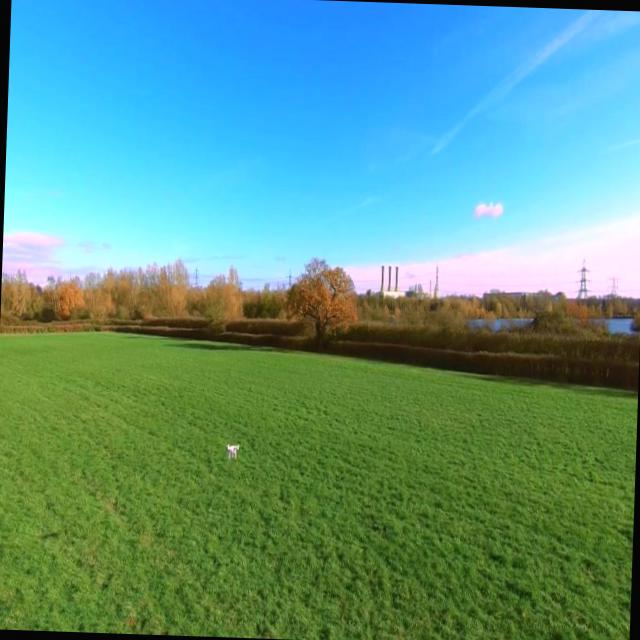drone: (224, 440, 240, 461)
